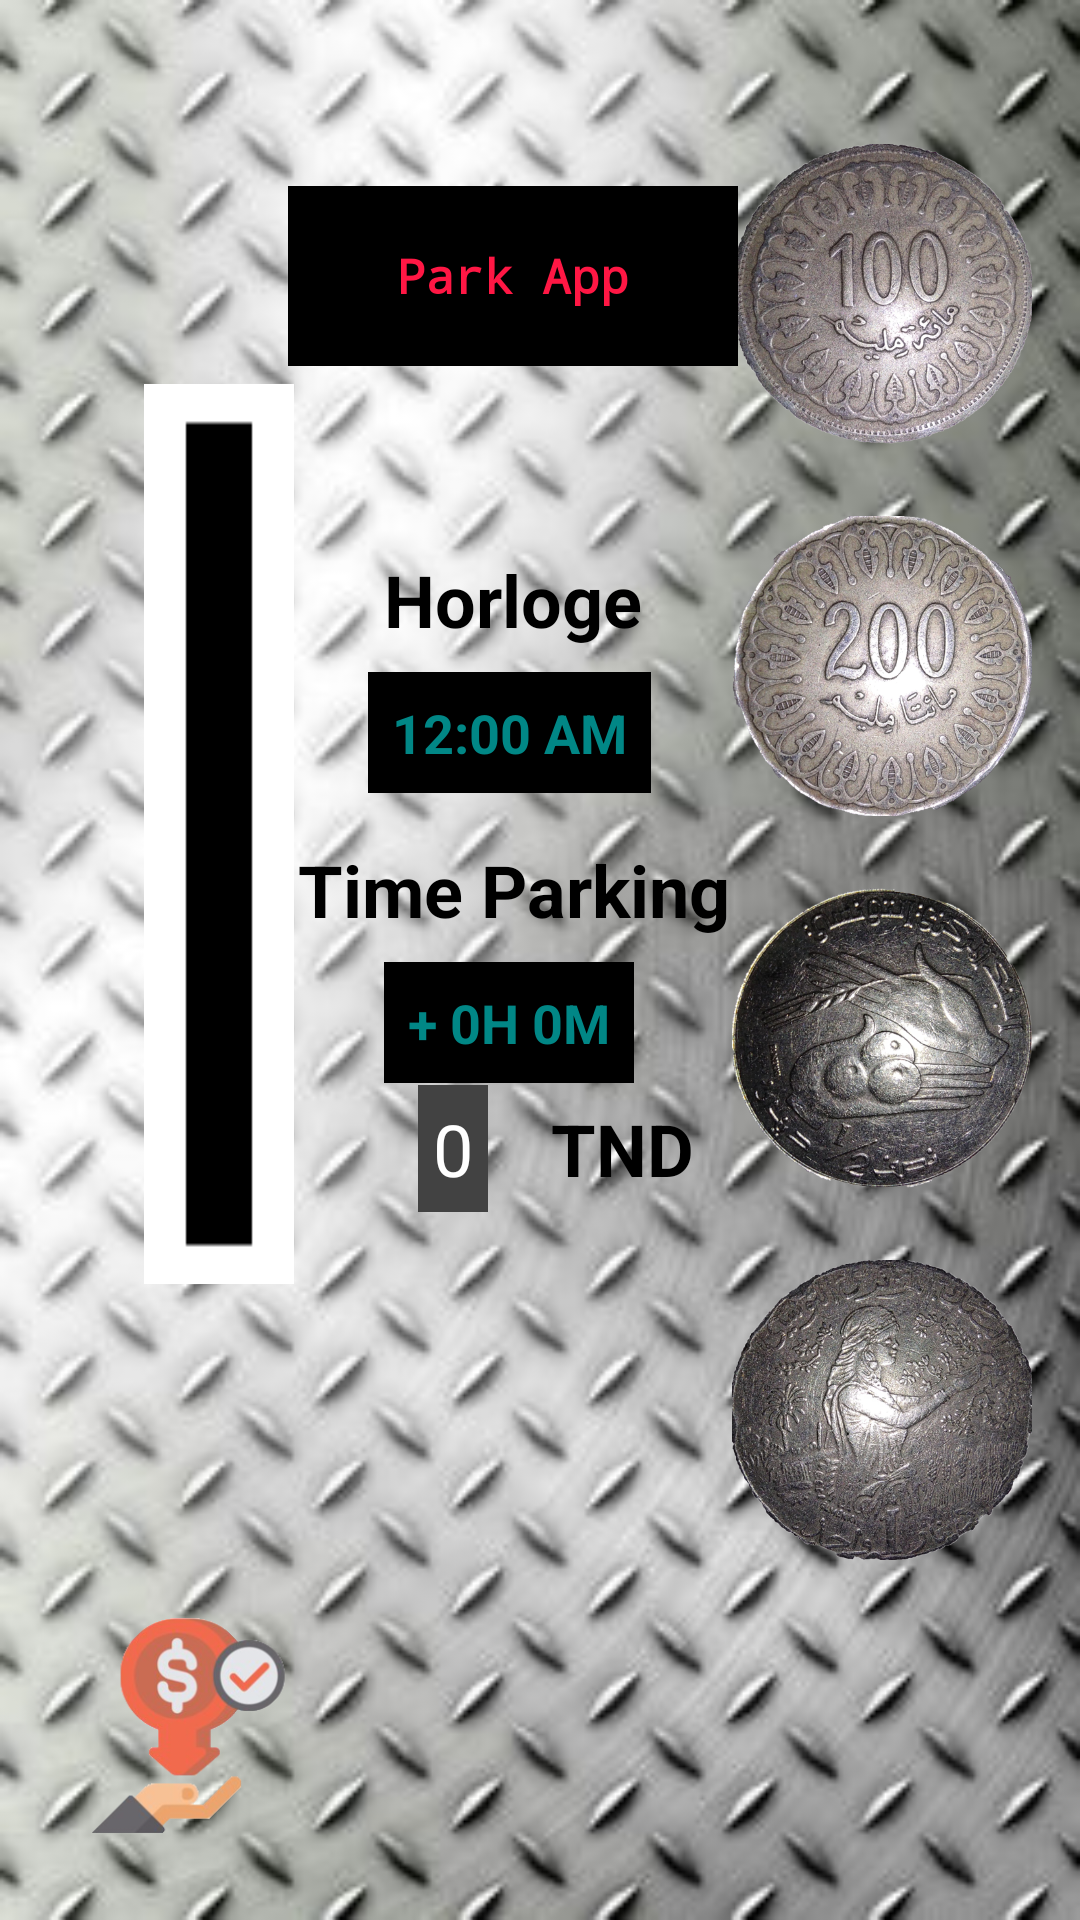

Named icons in this screenshot (1080x1920) and their centers, (x,y):
cash out: (192,1728)
millimes: (882,294), (882,666), (882,1038)
